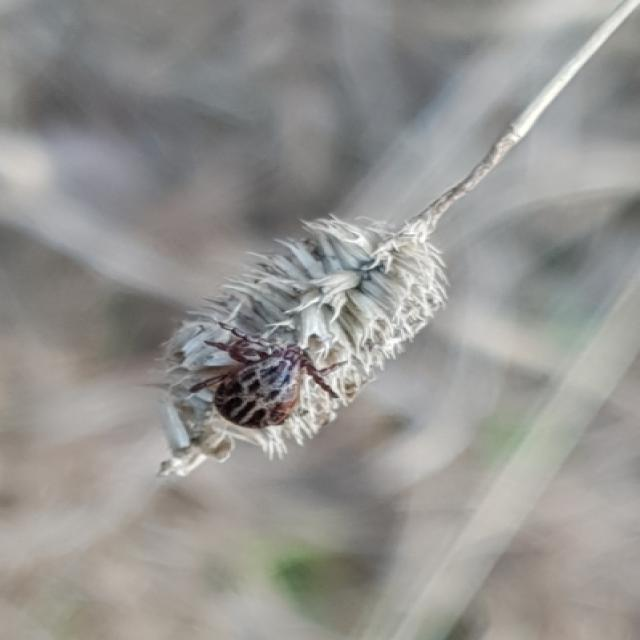Dermacentor Reticulatus-M: (189, 323, 345, 430)
